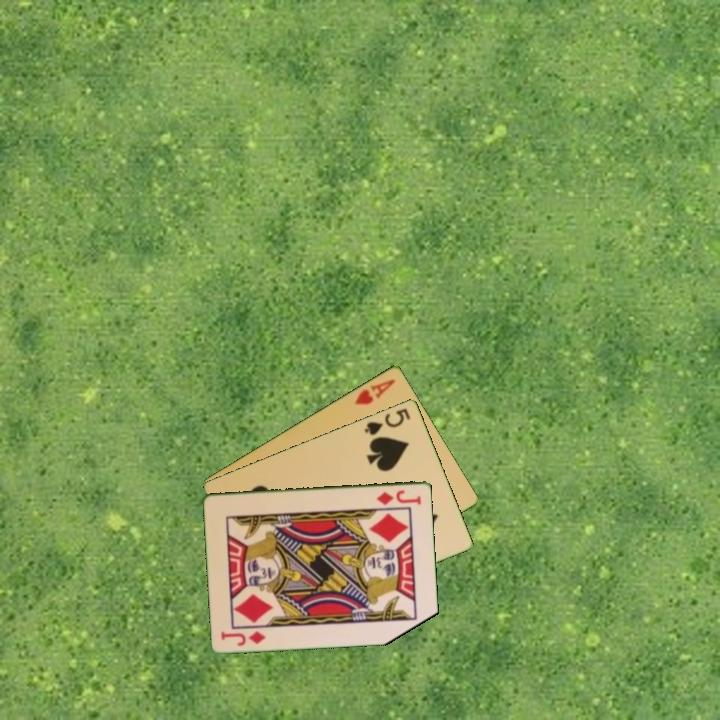5s: (361, 404, 413, 438)
Ah: (351, 375, 398, 407)
Jd: (373, 486, 424, 508), (218, 627, 269, 649)
